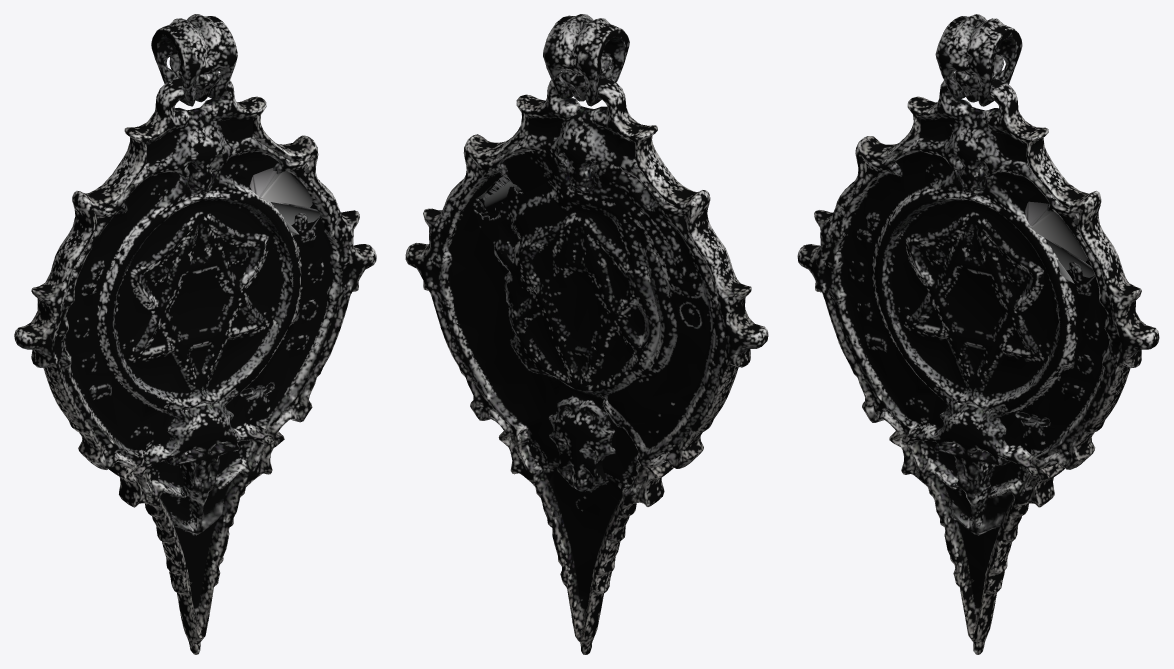
File: medallion_pendant_v3_LOD0.fbx
3 renders of one model, left to right at view 1: azimuth 30°, elevation 25°; view 2: azimuth 150°, elevation 25°; view 3: azimuth 330°, elevation 25°, orthographic.
Parts seen in each view (by area): view 1: medallion_pendant_v3_LOD0; view 2: medallion_pendant_v3_LOD0; view 3: medallion_pendant_v3_LOD0.
Boxes of the visible parts, x1,y1,x2,y2 form: medallion_pendant_v3_LOD0: (14,14,376,654); medallion_pendant_v3_LOD0: (405,14,768,654); medallion_pendant_v3_LOD0: (797,14,1159,654).
Bounding box in the file's own units: 0.0441 × 0.075 × 0.00769.
Materials: 1 (1 with a texture image).
